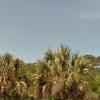Palm tree: (38, 44, 88, 98)
